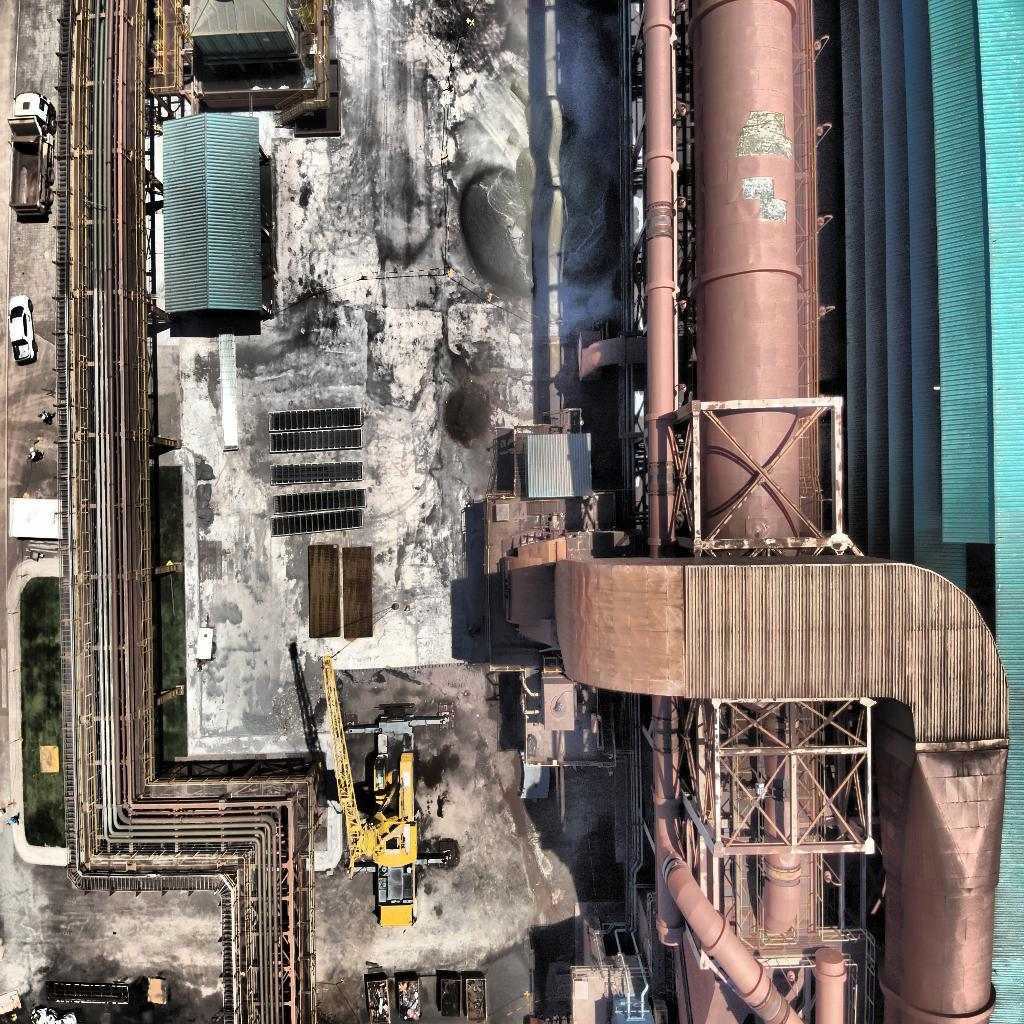Failures: (735, 109, 793, 164), (742, 176, 788, 225), (565, 520, 623, 556)
